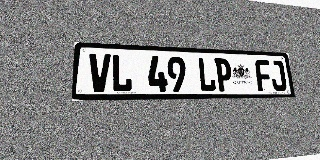4: (148, 56, 168, 92)
9: (167, 56, 187, 92)
F: (255, 60, 273, 91)
J: (269, 60, 287, 91)
L: (111, 54, 132, 92), (197, 57, 216, 91)
P: (214, 58, 233, 91)
V: (88, 53, 111, 92)
